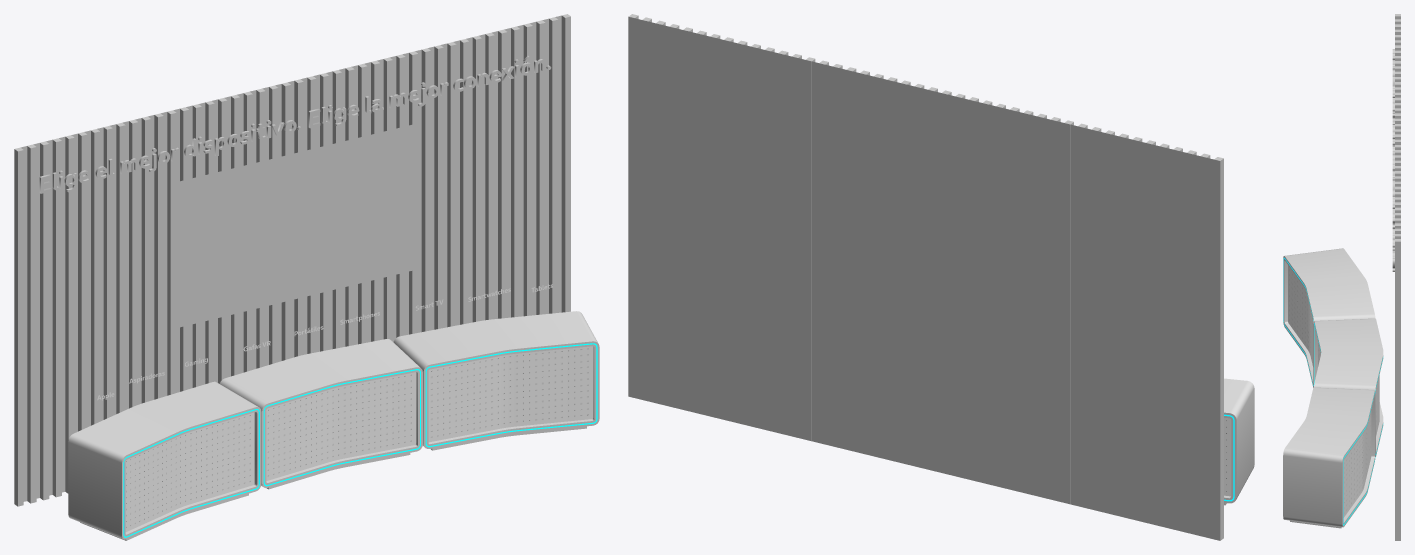
File: SM_Devices.fbx
The picture shows the model from 3 angles, left to right: view 1: azimuth 30°, elevation 25°; view 2: azimuth 150°, elevation 25°; view 3: azimuth 270°, elevation 25°; orthographic projection. The views are drawn at different scales.
Visible parts, largest first — view 1: Cube.002, Plane.001, Screen, Counters_front, Counters_body, Title, Counters_blueLight, Counters_whiteLight; view 2: Plane.001, Cube.002, Counters_body; view 3: Counters_body, Counters_front, Cube.002, Title, Counters_blueLight.
Boxes of the visible parts, x1,y1,x2,y2 form: Cube.002: (14,14,570,506); Plane.001: (20,15,561,501); Screen: (170,123,418,329); Counters_front: (125,346,593,531); Counters_body: (68,311,599,539); Title: (39,56,551,193); Counters_blueLight: (123,343,597,537); Counters_whiteLight: (80,426,586,540); Plane.001: (635,18,1213,539); Cube.002: (628,14,1223,540); Counters_body: (1224,378,1254,503); Counters_body: (1283,248,1383,527); Counters_front: (1288,265,1379,517); Cube.002: (1395,14,1400,540); Title: (1392,49,1394,271); Counters_blueLight: (1283,257,1383,525).
Size of the model in its own units: 652 by 400 by 142.
